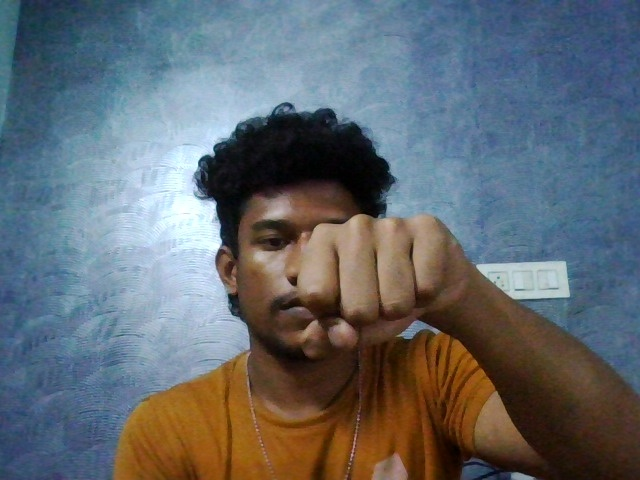yes: (274, 202, 479, 374)
